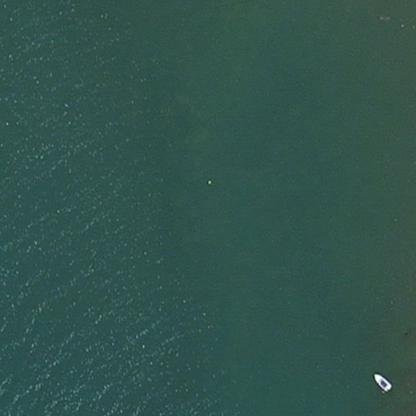ship: (372, 372, 393, 392)
